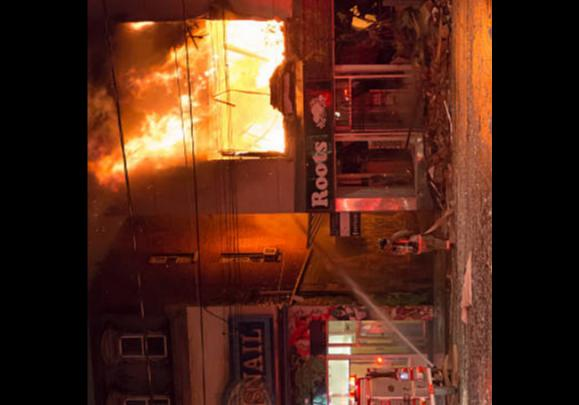fire: (91, 6, 305, 205)
